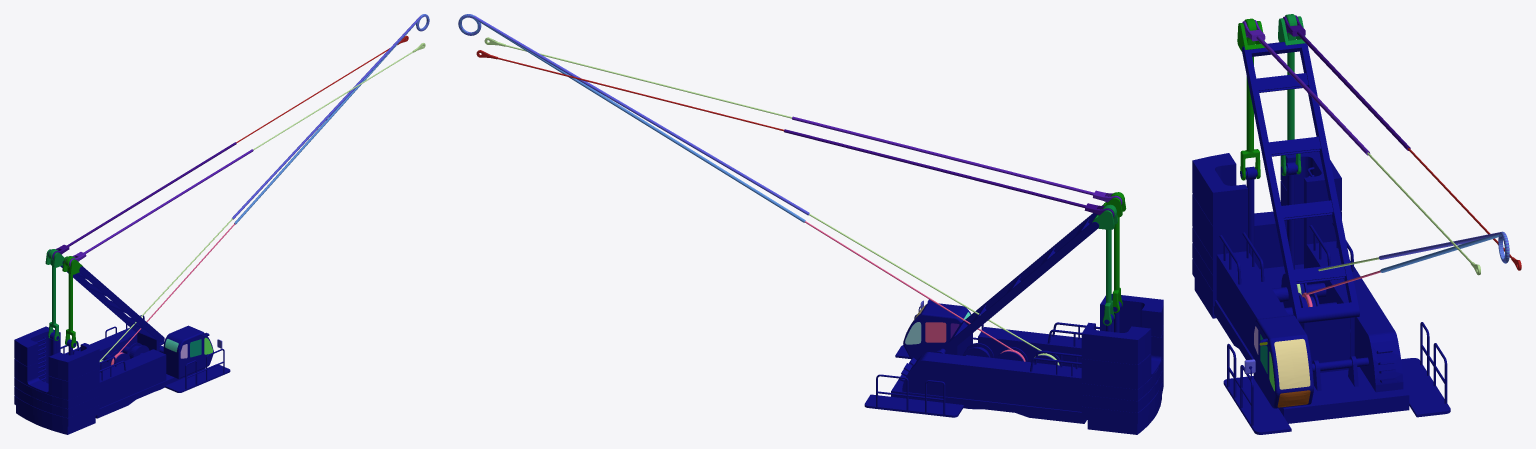
Rendered from rem1.obj.
3 views of the same model, side by side, from view 1: azimuth 30°, elevation 25°; view 2: azimuth 150°, elevation 25°; view 3: azimuth 270°, elevation 25° (orthographic). The views are drawn at different scales.
Parts seen in each view (by area): view 1: NONE_DC_Shell, Imported1_DC_Shell; view 2: NONE_DC_Shell, Imported1_DC_Shell; view 3: NONE_DC_Shell, Imported1_DC_Shell.
Boxes of the visible parts, x1,y1,x2,y2 form: NONE_DC_Shell: (14,249,230,434); Imported1_DC_Shell: (48,14,429,365); NONE_DC_Shell: (864,192,1163,434); Imported1_DC_Shell: (458,14,1122,365); NONE_DC_Shell: (1192,14,1450,434); Imported1_DC_Shell: (1242,15,1521,307).
Bounding box in the file's own units: 1133 × 575 × 391.
